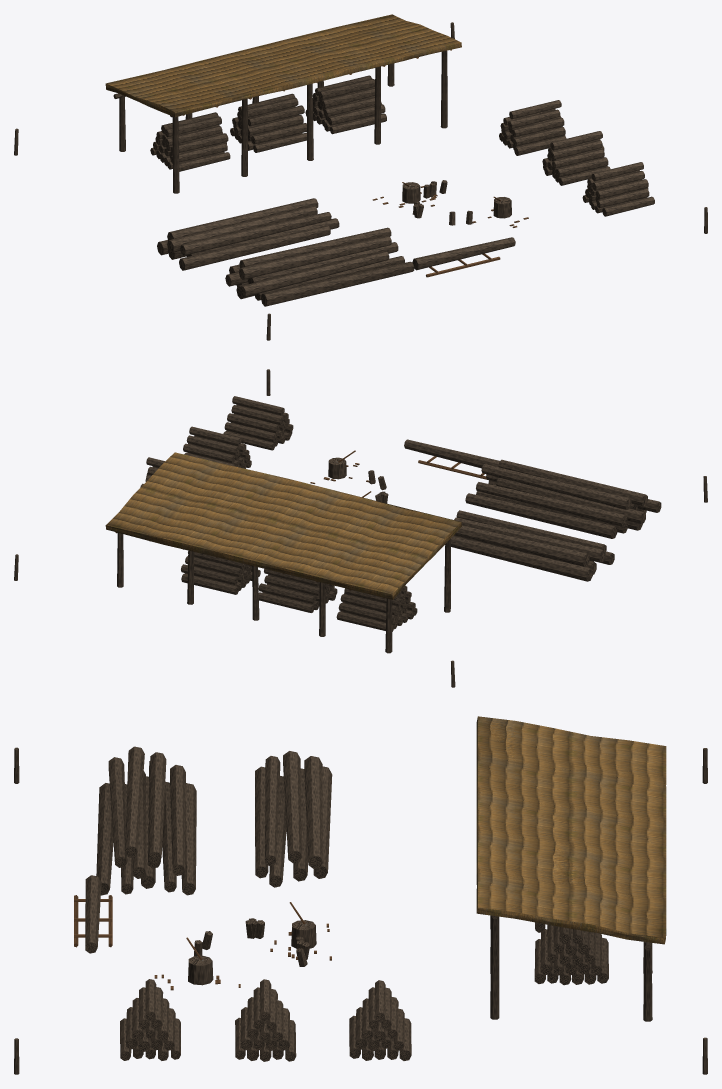
Rendered from legnaia.glb.
The picture shows the model from 3 angles, top to bottom: view 1: azimuth 30°, elevation 25°; view 2: azimuth 150°, elevation 25°; view 3: azimuth 270°, elevation 25°; orthographic projection. The views are drawn at different scales.
Parts seen in each view (by area): view 1: legnaia; view 2: legnaia; view 3: legnaia.
Boxes of the visible parts, left/top/right/bottom form: legnaia: left=14, top=14, right=707, bottom=340; legnaia: left=14, top=369, right=707, bottom=687; legnaia: left=14, top=716, right=707, bottom=1074.
Size of the model in its own units: 18.12 by 3.46 by 18.14.
4 materials, 4 textured.
